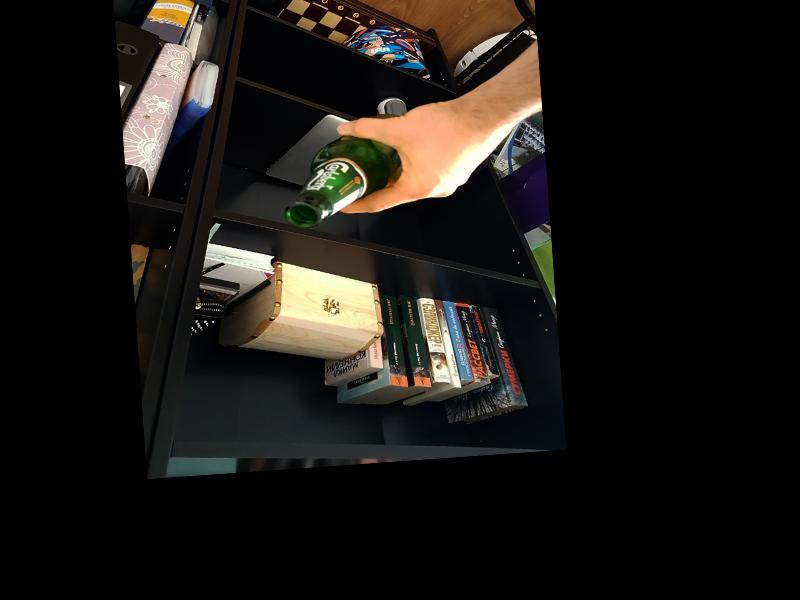Beer: (278, 112, 413, 228)
